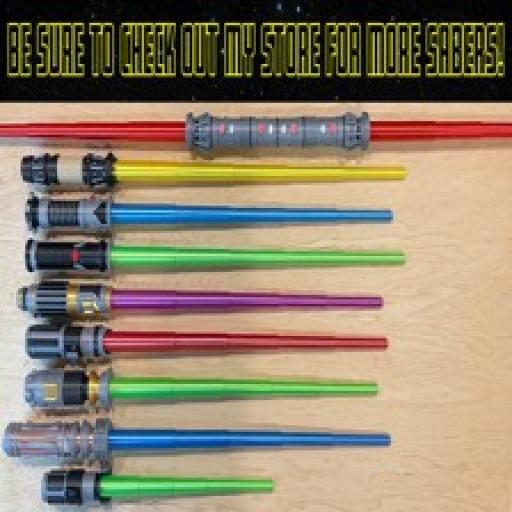lightsaber: (3, 414, 395, 471), (15, 148, 409, 192), (18, 236, 406, 280), (22, 372, 387, 410), (17, 196, 399, 232), (14, 285, 392, 321), (41, 470, 292, 506)
sith saber: (21, 322, 390, 369), (0, 117, 510, 151)
